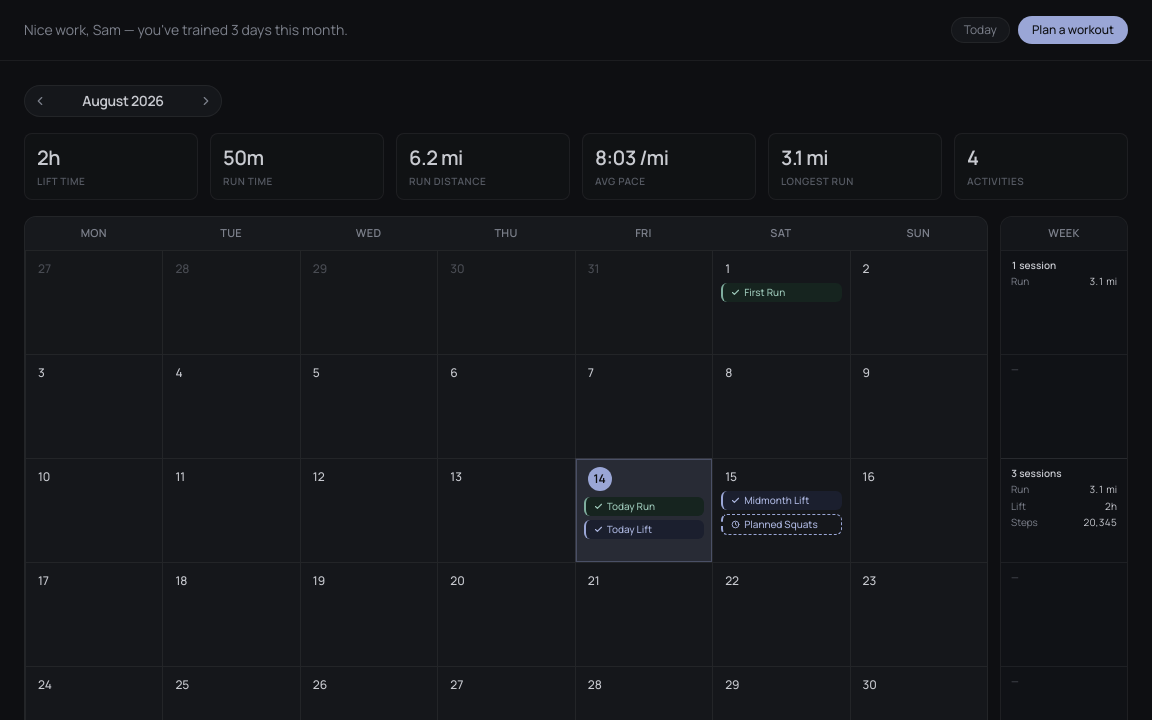
Test: CalendarPage › deletes a planned workout from the modal, closes it, and refreshes the window
Click the button "Planned Squats": (781, 524) [721, 514, 842, 534]
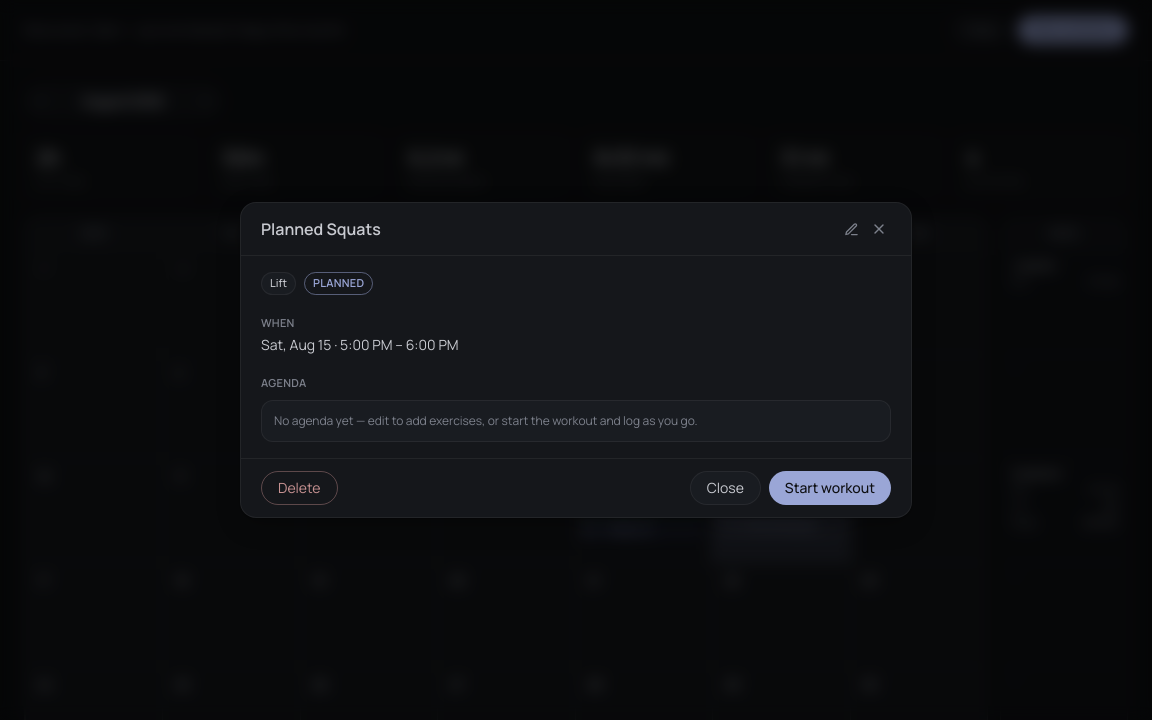
Click the button "Delete": (299, 488) [261, 471, 338, 505]
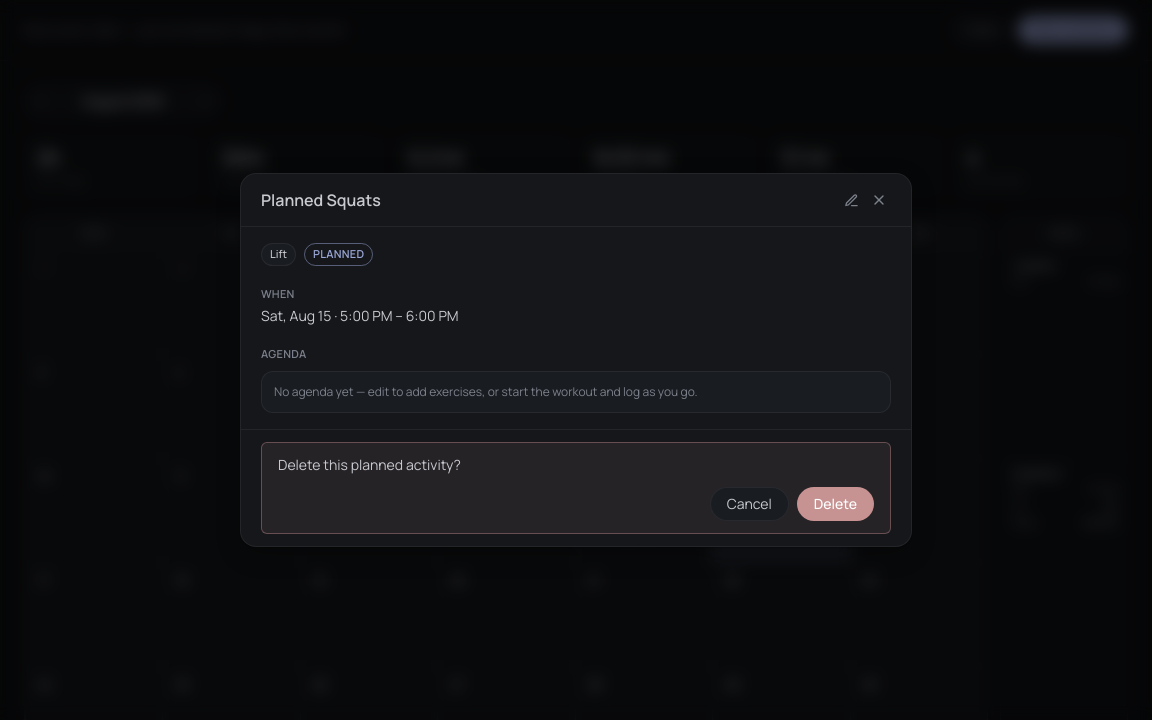
Click the button "Delete": (835, 504) [797, 487, 874, 521]
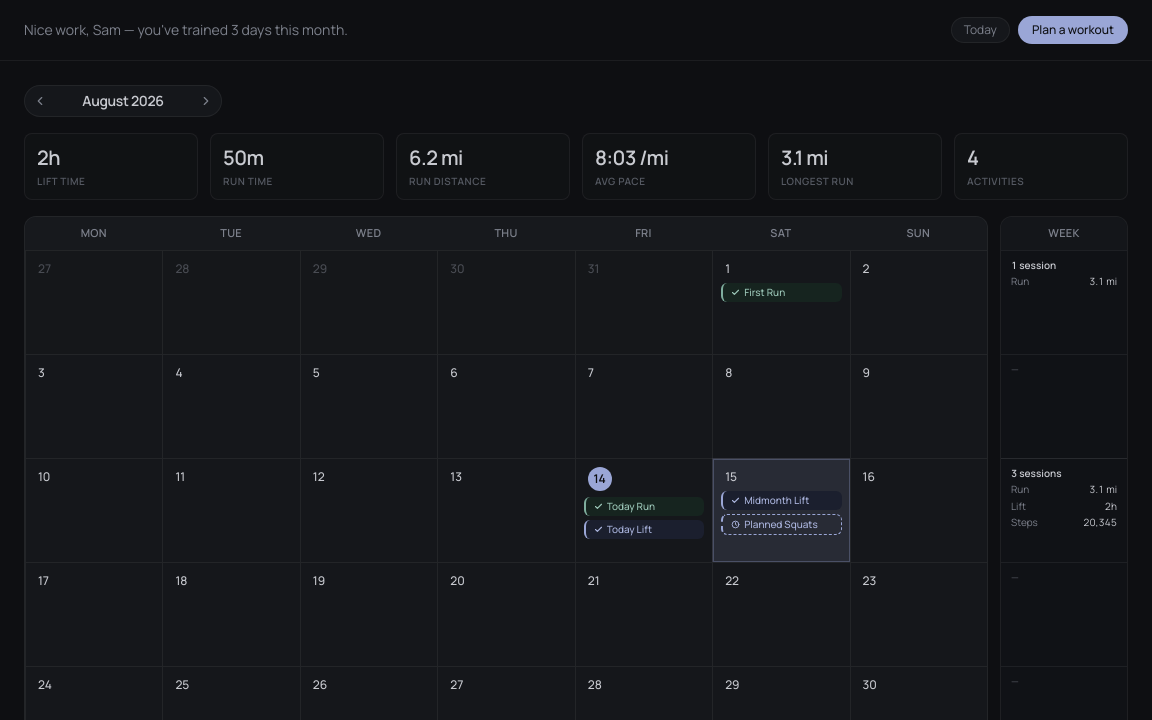
Result: the dialog is gone
